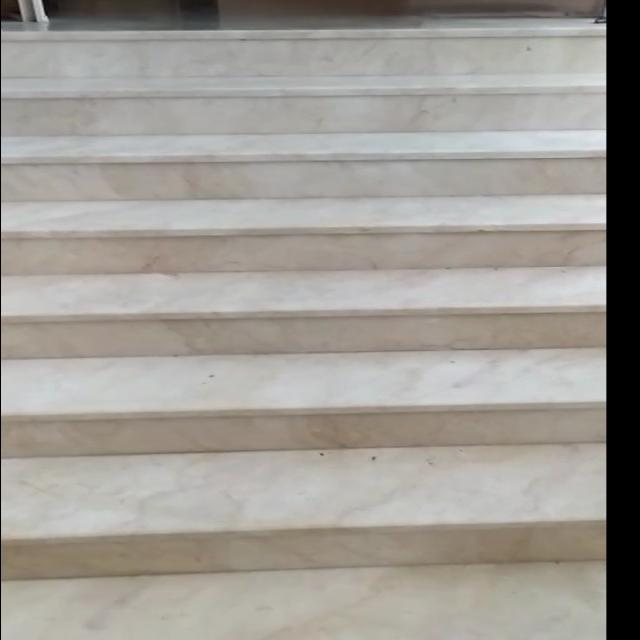stair: (3, 23, 640, 631)
